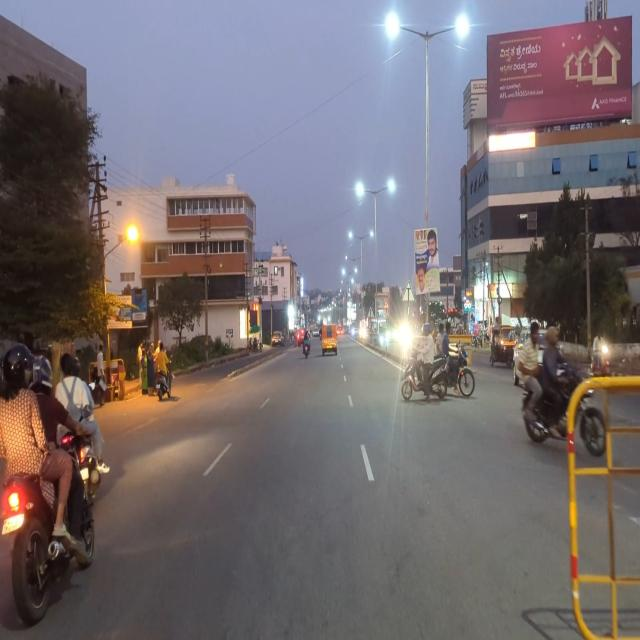bien_cam: (383, 298, 389, 310)
